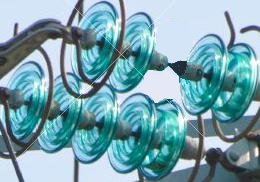gap: (108, 12, 229, 117)
